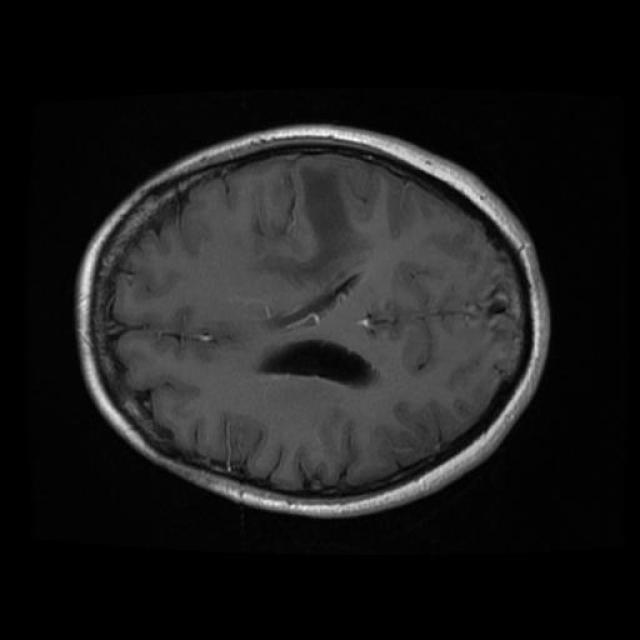Glioma: (293, 164, 356, 274)
